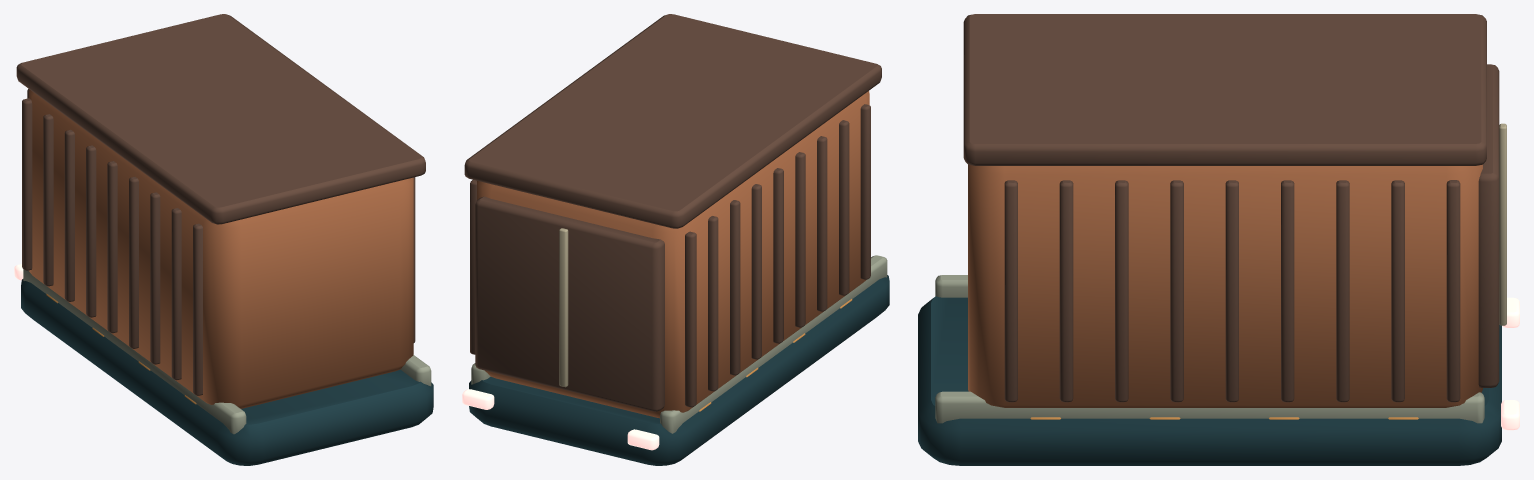
File: deck.glb
3 renders of one model, left to right at view 1: azimuth 30°, elevation 25°; view 2: azimuth 150°, elevation 25°; view 3: azimuth 270°, elevation 25°, orthographic. The views are drawn at different scales.
Parts seen in each view (by area): view 1: Deck; view 2: Deck; view 3: Deck.
Part boxes in pixels (x1,y1,x2,y2): Deck: [14, 14, 433, 465]; Deck: [462, 14, 889, 465]; Deck: [918, 14, 1519, 465].
Size of the model in its own units: 1.9 by 2.08 by 3.49.
